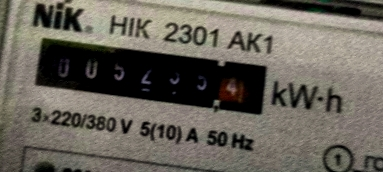0: (53, 51, 72, 78), (81, 53, 100, 79)
2: (136, 57, 156, 85)
3: (163, 58, 184, 86)
4: (220, 67, 242, 99)
5: (191, 62, 211, 92), (109, 54, 127, 81)
screen: (20, 19, 278, 127)
